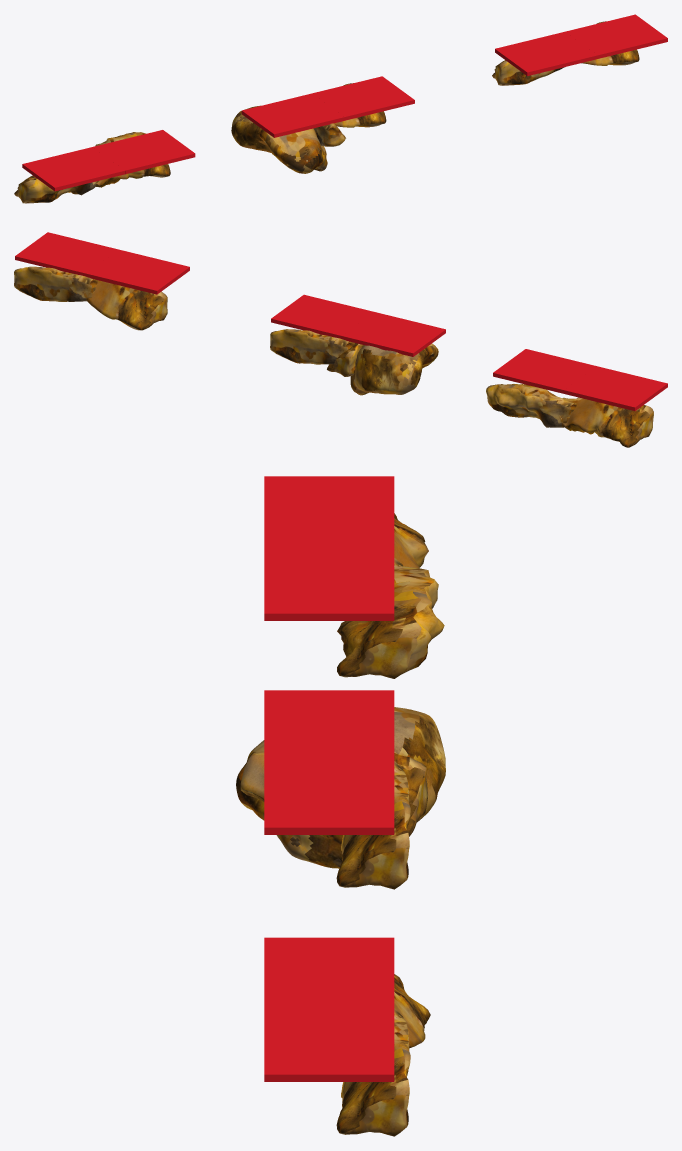
The model's file is objetosmundo.fbx.
3 views of the same model, one above another, from view 1: azimuth 30°, elevation 25°; view 2: azimuth 150°, elevation 25°; view 3: azimuth 270°, elevation 25° (orthographic). The views are drawn at different scales.
Visible parts, largest first — view 1: rock.004, Cube.066, Cube.064, Cube.068, Cube.065, Cube.067, Cube.063, kamien_low.008, kamien_low.007, kamien_low.004, kamien_low.003, kamien_low.006 (+1 smaller); view 2: rock.004, kamien_low.008, Cube.068, Cube.064, Cube.066, Cube.067, kamien_low.007, kamien_low.004, Cube.065, Cube.063, kamien_low.003, kamien_low.005 (+1 smaller); view 3: Cube.063, Cube.065, Cube.067, Cube.066, Cube.068, Cube.064, kamien_low.007, rock.004, kamien_low.003, kamien_low.005, kamien_low.006, kamien_low.004 (+1 smaller).
Part boxes in pixels (x1,y1,x2,y2): rock.004: (231,105,327,173); Cube.066: (241,93,344,137); Cube.064: (495,31,597,75); Cube.068: (22,147,124,191); Cube.065: (312,76,414,120); Cube.067: (93,130,195,174); Cube.063: (565,14,667,58); kamien_low.008: (14,175,98,203); kamien_low.007: (95,132,170,187); kamien_low.004: (492,60,564,85); kamien_low.003: (581,21,639,65); kamien_low.006: (313,123,345,146); rock.004: (350,343,438,395); kamien_low.008: (559,397,653,447); Cube.068: (564,366,667,410); Cube.064: (86,249,189,294); Cube.066: (342,312,445,356); Cube.067: (493,349,596,393); kamien_low.007: (486,384,576,427); kamien_low.004: (86,280,167,330); Cube.065: (271,294,374,338); Cube.063: (15,232,118,276); kamien_low.003: (14,266,97,301); kamien_low.005: (270,329,355,364); Cube.063: (264,1006,394,1081); Cube.065: (264,759,394,834); Cube.067: (264,545,394,620); Cube.066: (264,690,394,758); Cube.068: (264,476,394,544); Cube.064: (264,937,394,1005); kamien_low.007: (337,558,444,678); rock.004: (236,707,445,868); kamien_low.003: (336,1008,410,1136); kamien_low.005: (336,761,410,889); kamien_low.006: (240,751,427,836); kamien_low.004: (394,974,430,1048).
Bounding box in the file's own units: 6616 × 622 × 969.
3 materials, 2 textured.
